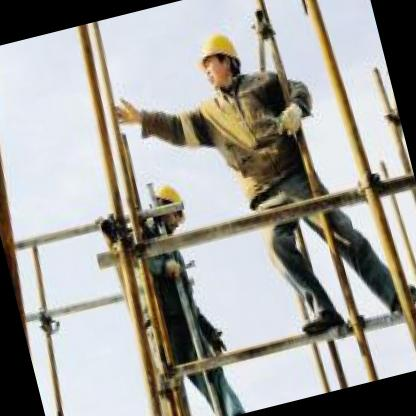helmet: (188, 17, 251, 100), (138, 171, 195, 240)
